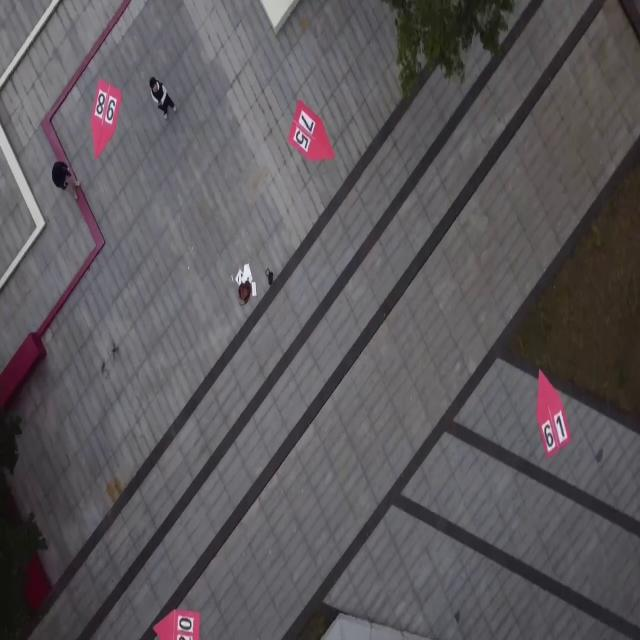-sign-: (537, 368, 571, 457), (287, 99, 335, 162), (92, 80, 121, 159), (153, 608, 200, 640)
